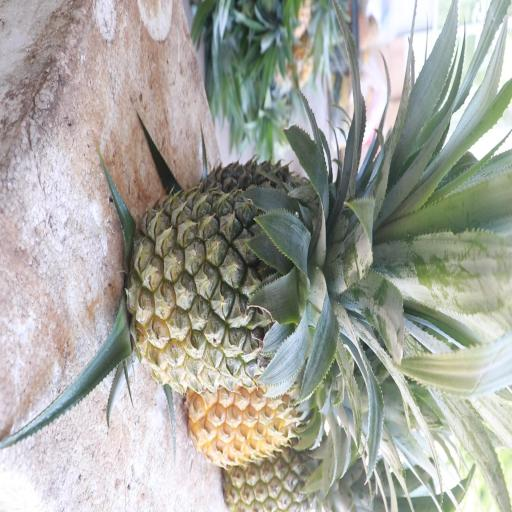------------------------------: (136, 178, 344, 386)
Pineapple - v8 v1: (189, 366, 315, 468)
